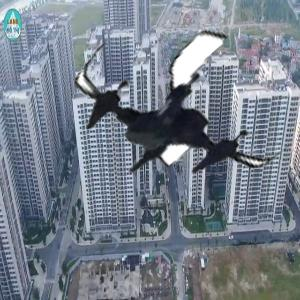drone: (75, 12, 278, 215)
